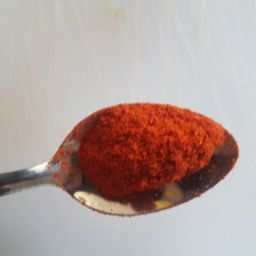Red chilli: (52, 102, 230, 218), (108, 111, 203, 193)
